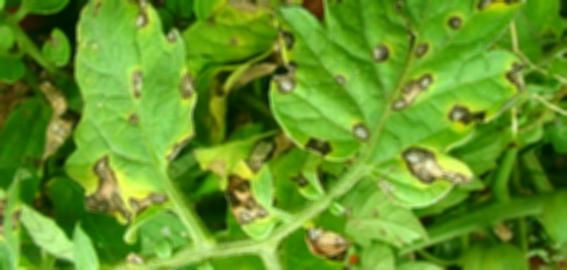Tomato leaf bacterial spot: (250, 0, 530, 197), (52, 0, 206, 244), (169, 0, 298, 81), (212, 156, 306, 249)
